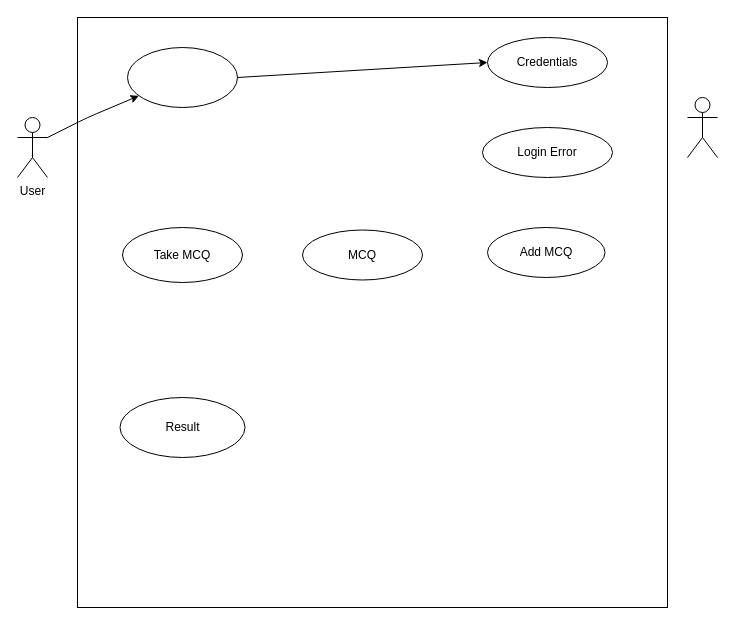
Some shapes in this 737 by 625 pixel diagram are drawn without their labels. The shapes that lost their labels are listed below. From the top down, each one's centre as x and y in pixels, then its label:
point (182, 77): Login
point (702, 127): Admin
